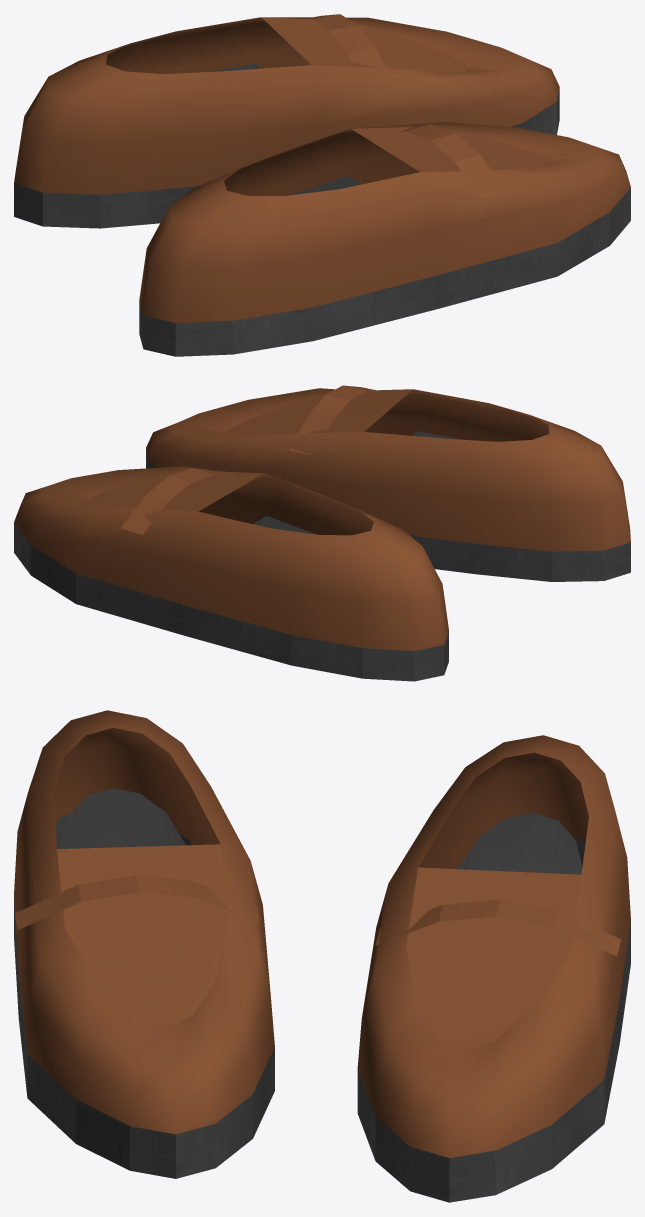
The model's file is decor_a_floor_shoes.gltf.
3 views of the same model, one above another, from view 1: azimuth 30°, elevation 25°; view 2: azimuth 150°, elevation 25°; view 3: azimuth 270°, elevation 25° (orthographic). The views are drawn at different scales.
Visible parts, largest first — view 1: DecorAFloorShoes_leather_NoCollide, DecorAFloorShoes_wool_NoCollide; view 2: DecorAFloorShoes_leather_NoCollide, DecorAFloorShoes_wool_NoCollide; view 3: DecorAFloorShoes_leather_NoCollide, DecorAFloorShoes_wool_NoCollide.
Boxes of the visible parts, x1,y1,x2,y2 form: DecorAFloorShoes_leather_NoCollide: [14, 14, 630, 322]; DecorAFloorShoes_wool_NoCollide: [14, 64, 630, 356]; DecorAFloorShoes_leather_NoCollide: [14, 385, 630, 650]; DecorAFloorShoes_wool_NoCollide: [14, 431, 630, 681]; DecorAFloorShoes_leather_NoCollide: [14, 710, 630, 1157]; DecorAFloorShoes_wool_NoCollide: [14, 788, 630, 1202].
Size of the model in its own units: 0.2883 by 0.068 by 0.2132.
Materials: 2 (1 with a texture image).
